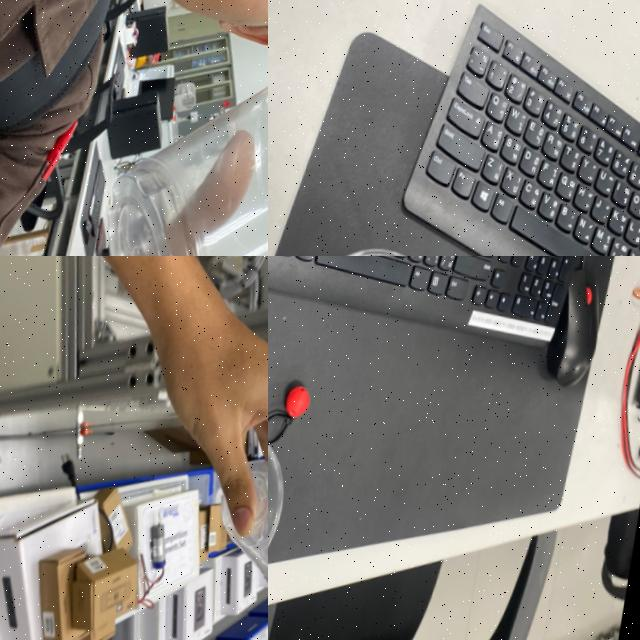glass: (87, 0, 268, 256), (203, 424, 268, 640), (268, 395, 307, 607)
